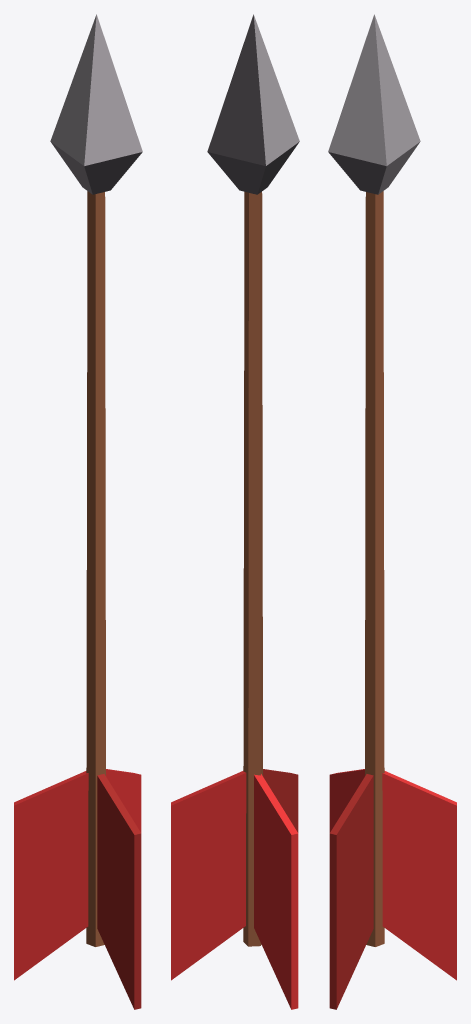
File: arrow.glb
The picture shows the model from 3 angles, left to right: view 1: azimuth 30°, elevation 25°; view 2: azimuth 150°, elevation 25°; view 3: azimuth 330°, elevation 25°; orthographic projection.
Parts seen in each view (by area): view 1: arrow; view 2: arrow; view 3: arrow.
Boxes of the visible parts, left/top/right/bottom form: arrow: left=14, top=14, right=142, bottom=1009; arrow: left=171, top=14, right=299, bottom=1009; arrow: left=328, top=14, right=456, bottom=1009.
Size of the model in its own units: 0.1104 by 0.8 by 0.0956.
